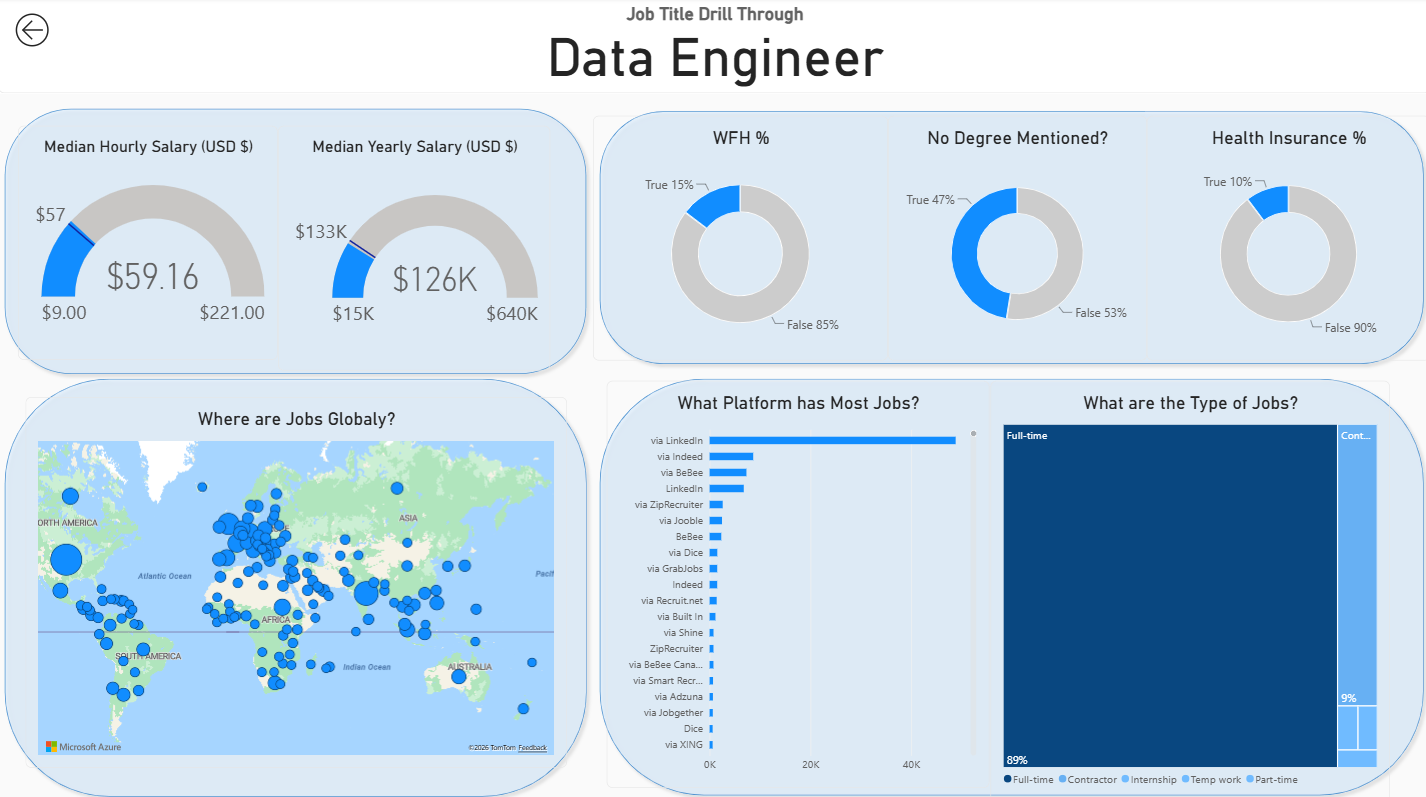

This screenshot's page, from the dashboard's own definition file:
{"tool":"powerbi","page":{"name":"Job Title Drill Through","canvas":[1920,1080],"ordinal":1},"visuals":[{"type":"group","id":"g1","title":"Background","box":[0,141.1,1920,939.6],"z":500},{"type":"cardVisual","fields":{"Data":["Min(job_postings_flat.job_title_short)1"]},"box":[0,0,1920,129.7],"z":1000},{"type":"shape","box":[0,141.1,797.3,373.5],"z":1000,"group":"g1"},{"type":"actionButton","box":[0,0,91,89.1],"z":2000},{"type":"shape","box":[797.9,502.7,1122.1,576.4],"z":2000,"group":"g1"},{"type":"shape","box":[797.3,144.3,1122.2,356.8],"z":3000,"group":"g1"},{"type":"donutChart","title":"No Degree Mentioned?","fields":{"Category":["job_postings_flat.job_no_degree_mention"],"Y":["CountNonNull(job_postings_flat.job_no_degree_mention)"]},"box":[1192.6,159.1,346.9,327.9],"z":3000},{"type":"gauge","title":"Median Hourly Salary (USD $)","fields":{"MaxValue":["Max(job_postings_flat.salary_hour_avg)"],"MinValue":["Min(job_postings_flat.salary_hour_avg)1"],"TargetValue":["Avg(job_postings_flat.salary_hour_avg)2"],"Y":["Median(job_postings_flat.salary_hour_avg)"]},"box":[27,172.9,347.6,313.4],"z":4000},{"type":"shape","box":[0,502.5,797.9,578.2],"z":4000,"group":"g1"},{"type":"donutChart","title":"Health Insurance %","fields":{"Category":["job_postings_flat.job_health_insurance"],"Y":["CountNonNull(job_postings_flat.job_health_insurance)"]},"box":[1539.3,159.1,380.2,328.3],"z":5000},{"type":"donutChart","title":"WFH %","fields":{"Category":["job_postings_flat.job_work_from_home"],"Y":["CountNonNull(job_postings_flat.job_work_from_home)"]},"box":[797.3,159.1,395.3,328.3],"z":6000},{"type":"gauge","title":"Median Yearly Salary (USD $)","fields":{"MaxValue":["Max(job_postings_flat.salary_year_avg)2"],"MinValue":["Min(job_postings_flat.salary_year_avg)1"],"TargetValue":["Avg(job_postings_flat.salary_year_avg)3"],"Y":["Median(job_postings_flat.salary_year_avg)"]},"box":[374.6,172.9,365.1,328.3],"z":7000},{"type":"map","title":"Where are Jobs Globaly?","fields":{"Category":["job_postings_flat.job_country"],"Size":["CountNonNull(job_postings_flat.job_country)"]},"box":[36.6,535.5,725.6,497.1],"z":8000},{"type":"treemap","title":"What are the Type of Jobs?","fields":{"Group":["job_postings_flat.job_schedule_type"],"Values":["CountNonNull(job_postings_flat.job_schedule_type)"]},"box":[1329.1,514.5,535.5,565.1],"z":9000},{"type":"barChart","title":"What Platform has Most Jobs?","fields":{"Category":["job_postings_flat.job_via"],"Y":["CountNonNull(job_postings_flat.job_via)"]},"box":[816.3,514.5,512.8,545.9],"z":10000}]}

Visuals, with their boxes in screenshot pixels (x1, y1, x2, y2), scaled from the page's 1920x1080 canvas onto the 1426x797 screenshot:
"Background" group: pyautogui.locateOnScreen(0, 104, 1425, 796)
cardVisual - Min(job_postings_flat.job_title_short)1: pyautogui.locateOnScreen(0, 0, 1425, 96)
shape: pyautogui.locateOnScreen(0, 104, 592, 380)
actionButton: pyautogui.locateOnScreen(0, 0, 68, 66)
shape: pyautogui.locateOnScreen(593, 371, 1425, 796)
shape: pyautogui.locateOnScreen(592, 106, 1425, 370)
"No Degree Mentioned?" donutChart: pyautogui.locateOnScreen(886, 117, 1143, 359)
"Median Hourly Salary (USD $)" gauge: pyautogui.locateOnScreen(20, 128, 278, 359)
shape: pyautogui.locateOnScreen(0, 371, 593, 796)
"Health Insurance %" donutChart: pyautogui.locateOnScreen(1143, 117, 1425, 360)
"WFH %" donutChart: pyautogui.locateOnScreen(592, 117, 886, 360)
"Median Yearly Salary (USD $)" gauge: pyautogui.locateOnScreen(278, 128, 549, 370)
"Where are Jobs Globaly?" map: pyautogui.locateOnScreen(27, 395, 566, 762)
"What are the Type of Jobs?" treemap: pyautogui.locateOnScreen(987, 380, 1385, 796)
"What Platform has Most Jobs?" barChart: pyautogui.locateOnScreen(606, 380, 987, 783)
